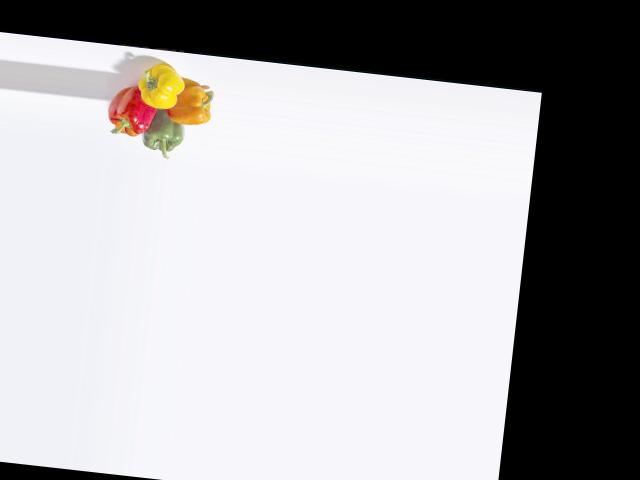bell_pepper: (103, 83, 157, 143)
